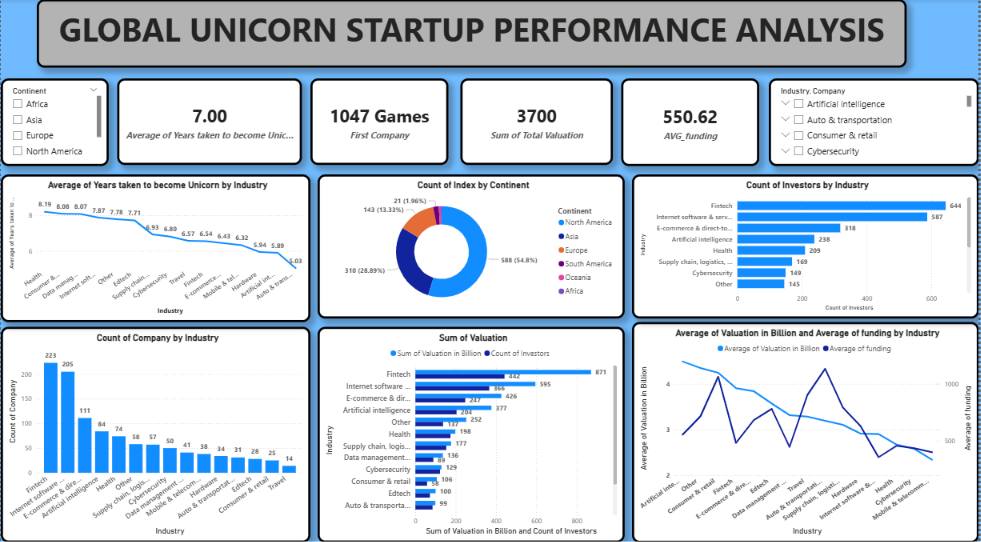

What the dashboard file says about the page in this screenshot:
{"tool":"powerbi","page":{"name":"Project Report","canvas":[1800,1000],"ordinal":0},"visuals":[{"type":"textbox","box":[66.3,0,1601.7,125.9],"z":0},{"type":"clusteredColumnChart","fields":{"Category":["Unicorn_companies.Industry"],"Y":["Count(Unicorn_companies.Company)"]},"box":[0,603.1,570,397.7],"z":1000},{"type":"lineChart","fields":{"Category":["Unicorn_companies.Industry"],"Y":["Avg(Unicorn_companies.Valuation in Billion)"],"Y2":["Avg(Funding.funding)"]},"box":[1162,594.3,638.5,406.5],"z":2000},{"type":"donutChart","fields":{"Category":["Unicorn_companies.Continent"],"Y":["CountNonNull(Unicorn_companies.Index)"]},"box":[583.2,322.5,565.6,265.1],"z":3000},{"type":"card","fields":{"Values":["Min(Investors.Company)"]},"box":[570,145.8,254.1,159.1],"z":4000},{"type":"card","fields":{"Values":["Sum(Industry_Wise_Valuation.Total Valuation)"]},"box":[846.1,145.8,280.6,159.1],"z":5000},{"type":"card","fields":{"Values":["Unicorn_companies.AVG_funding"]},"box":[1142.1,145.8,254.1,161.3],"z":6000},{"type":"slicer","fields":{"Values":["Unicorn_companies.Continent"]},"box":[0,145.8,198.8,161.3],"z":7000},{"type":"card","fields":{"Values":["Avg(Unicorn_companies.Years taken to become Unicorn)"]},"box":[214.3,145.8,340.2,159.1],"z":8000},{"type":"slicer","fields":{"Values":["Unicorn_companies.Industry","Unicorn_companies.Company"]},"box":[1413.9,145.8,386.6,161.3],"z":9000},{"type":"clusteredBarChart","fields":{"Category":["Unicorn_companies.Industry"],"Y":["CountNonNull(Investors.Investors)"]},"box":[1162,322.5,638.5,265.1],"z":10000},{"type":"clusteredBarChart","title":"Sum of Valuation","fields":{"Category":["Unicorn_companies.Industry"],"Y":["Sum(Unicorn_companies.Valuation in Billion)","Count(Investors.Investors)"]},"box":[583.2,603.1,565.6,397.7],"z":11000},{"type":"lineChart","fields":{"Category":["Unicorn_companies.Industry"],"Y":["Avg(Unicorn_companies.Years taken to become Unicorn)"]},"box":[0,322.5,570,271.7],"z":12000}]}

Visuals, with their boxes in screenshot pixels (x1, y1, x2, y2), scaled from the page's 1800x1000 canvas onto the 981x542 screenshot:
textbox: <box>36,0,909,68</box>
clusteredColumnChart - Unicorn_companies.Industry x Count(Unicorn_companies.Company): <box>0,327,311,541</box>
lineChart - Unicorn_companies.Industry x Avg(Unicorn_companies.Valuation in Billion): <box>633,322,980,541</box>
donutChart - Unicorn_companies.Continent x CountNonNull(Unicorn_companies.Index): <box>318,175,626,318</box>
card - Min(Investors.Company): <box>311,79,449,165</box>
card - Sum(Industry_Wise_Valuation.Total Valuation): <box>461,79,614,165</box>
card - Unicorn_companies.AVG_funding: <box>622,79,761,166</box>
slicer - Unicorn_companies.Continent: <box>0,79,108,166</box>
card - Avg(Unicorn_companies.Years taken to become Unicorn): <box>117,79,302,165</box>
slicer - Unicorn_companies.Industry x Unicorn_companies.Company: <box>771,79,980,166</box>
clusteredBarChart - Unicorn_companies.Industry x CountNonNull(Investors.Investors): <box>633,175,980,318</box>
"Sum of Valuation" clusteredBarChart: <box>318,327,626,541</box>
lineChart - Unicorn_companies.Industry x Avg(Unicorn_companies.Years taken to become Unicorn): <box>0,175,311,322</box>
